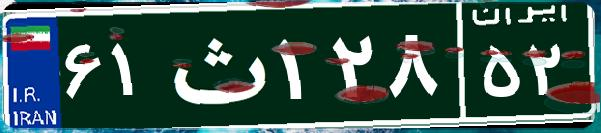1: (273, 28, 330, 110), (110, 28, 158, 105)
2: (330, 28, 385, 110), (525, 38, 570, 115)
5: (475, 38, 525, 113)
6: (57, 26, 110, 107)
8: (385, 28, 445, 110)
ث: (158, 15, 273, 115)
